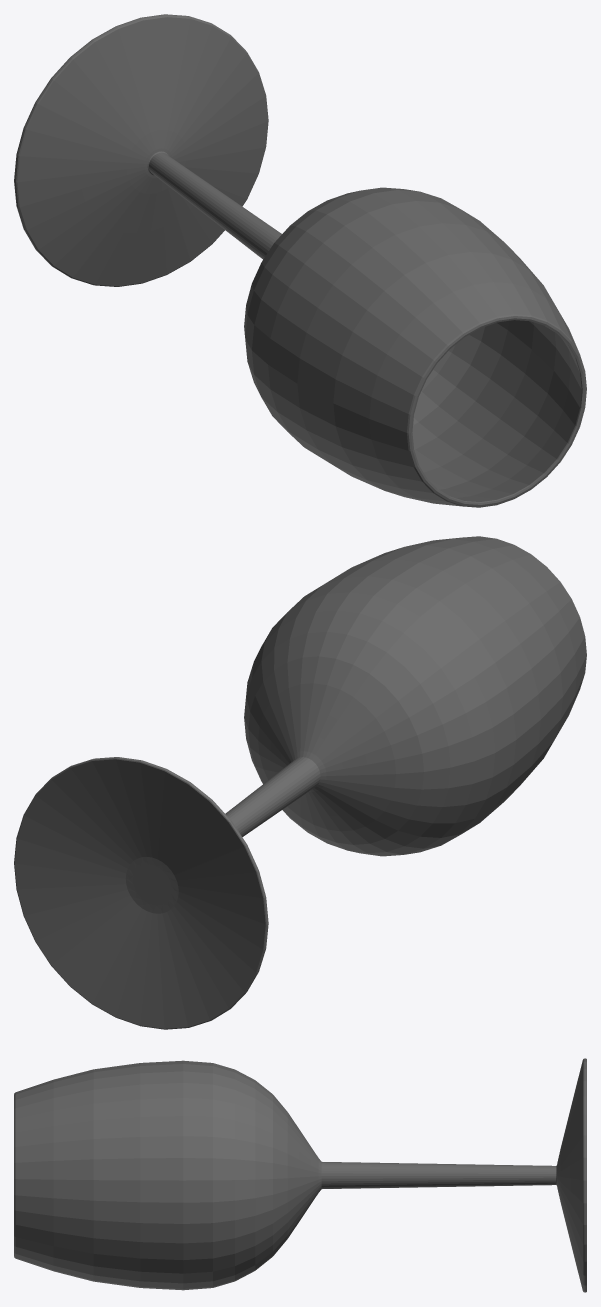
3 views of the same model, one above another, from view 1: azimuth 30°, elevation 25°; view 2: azimuth 150°, elevation 25°; view 3: azimuth 270°, elevation 25° (orthographic). The views are drawn at different scales.
Bounding box in the file's own units: 0.409 × 0.409 × 1.
